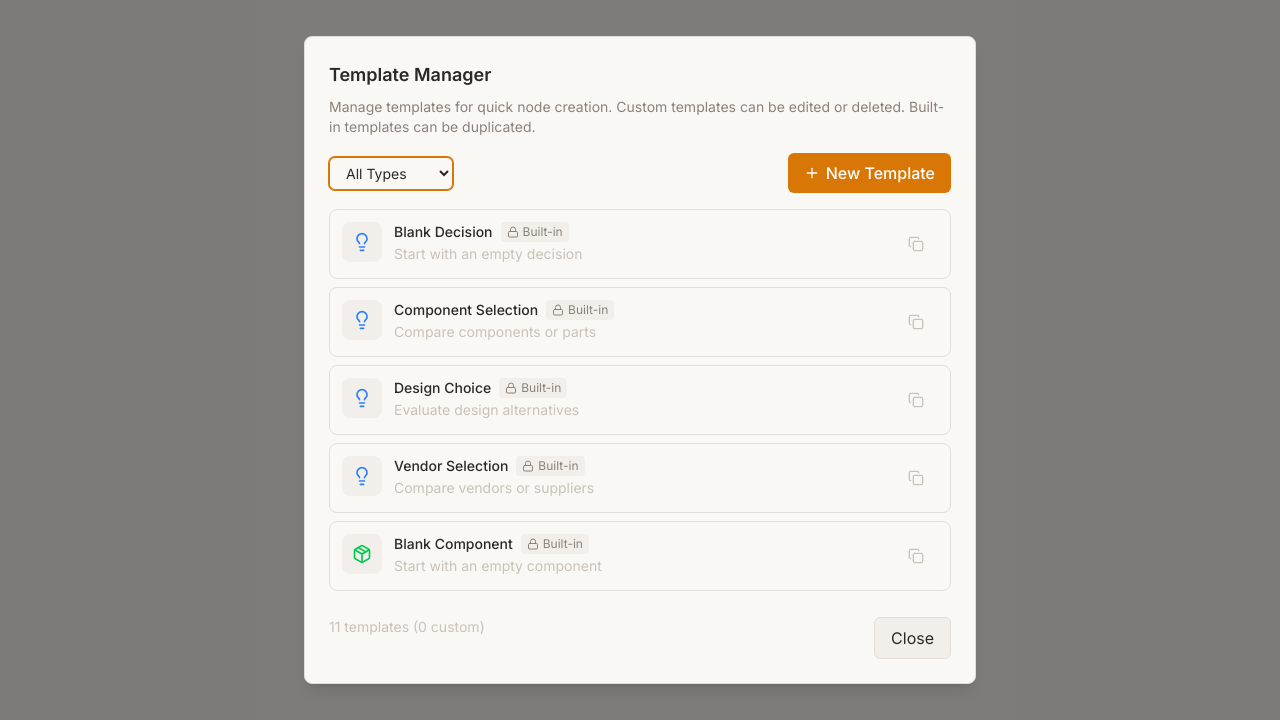
Test: TemplateManager › creating templates › opens create dialog when clicking New Template
Click the button "New Template": (869, 173) top-left (788, 153), bottom-right (951, 193)
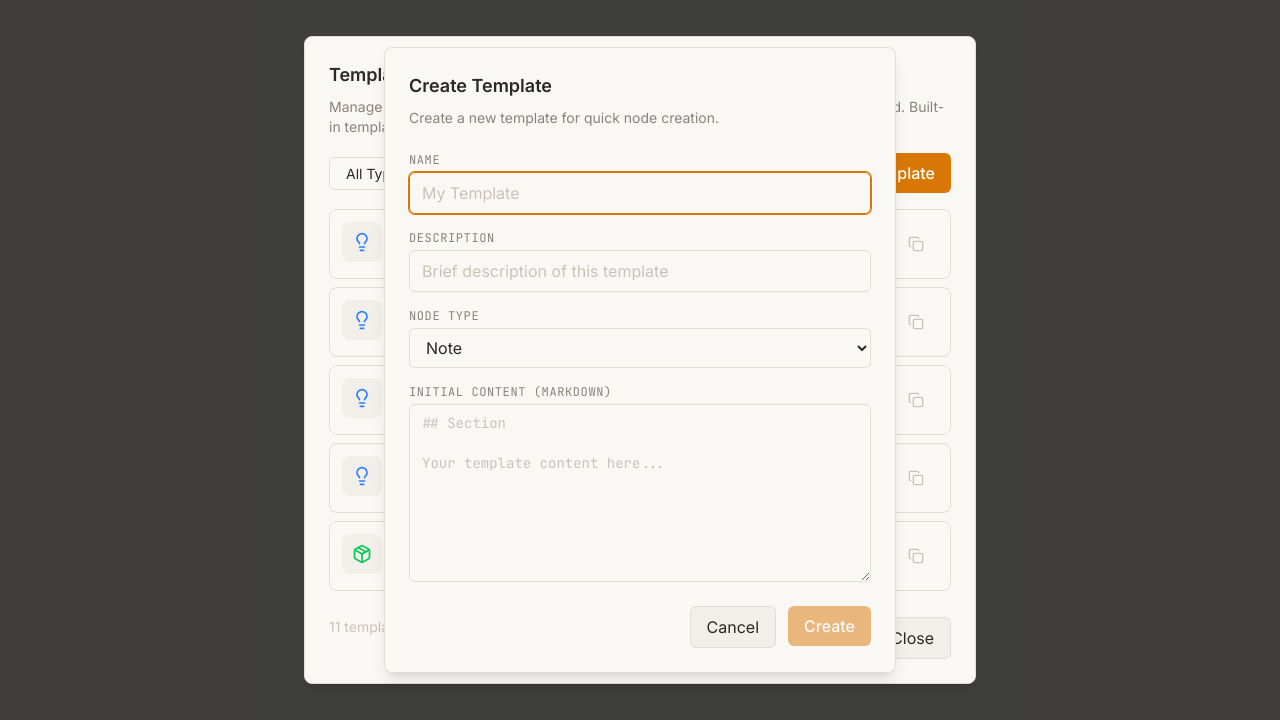
Expected: the heading "Create Template" is shown, top-left (409, 75), bottom-right (552, 96)
